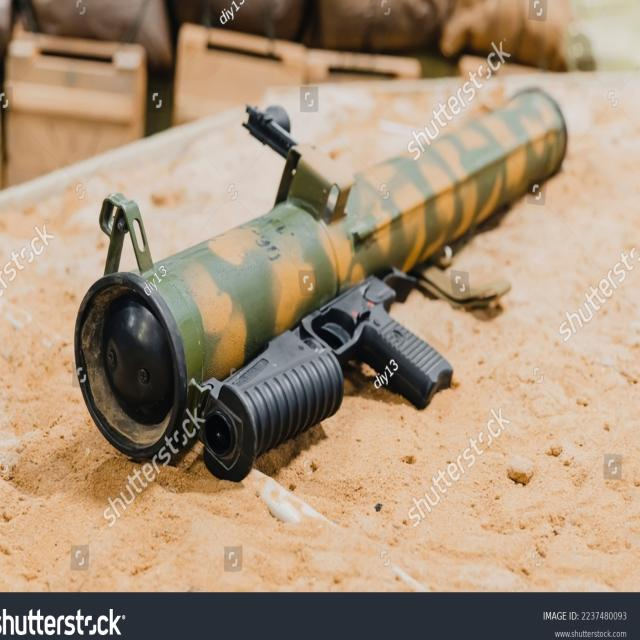Weapon: (75, 88, 566, 479)
